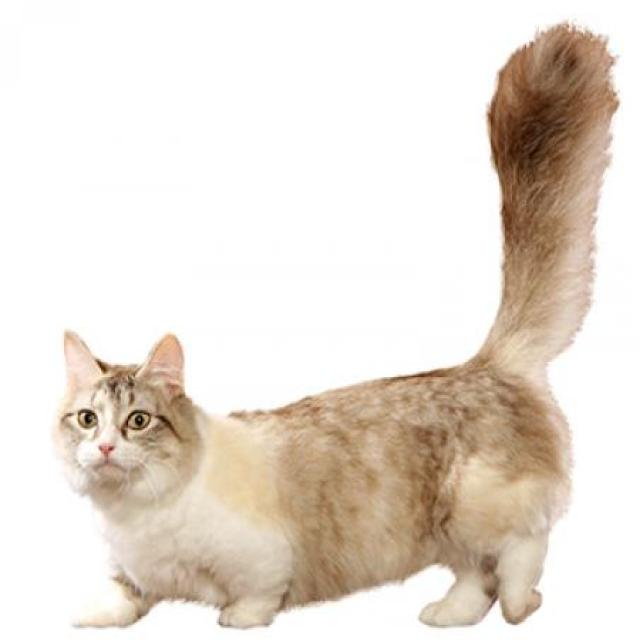Munchkin: (47, 19, 622, 635)
